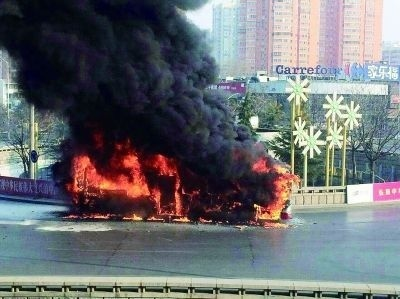fire: (61, 133, 284, 224)
